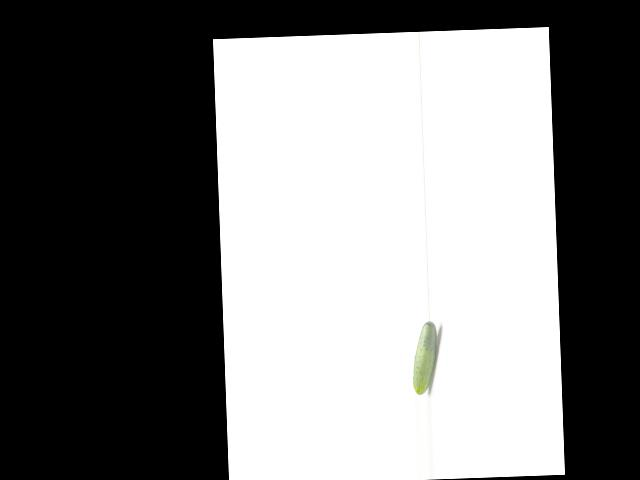cucumber: (411, 319, 439, 394)
